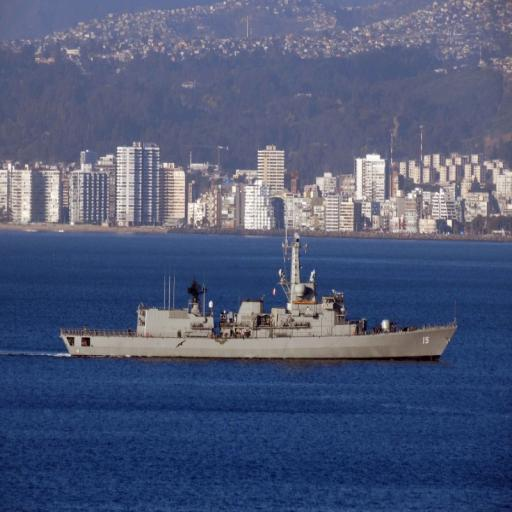Fragata: (59, 232, 462, 367)
